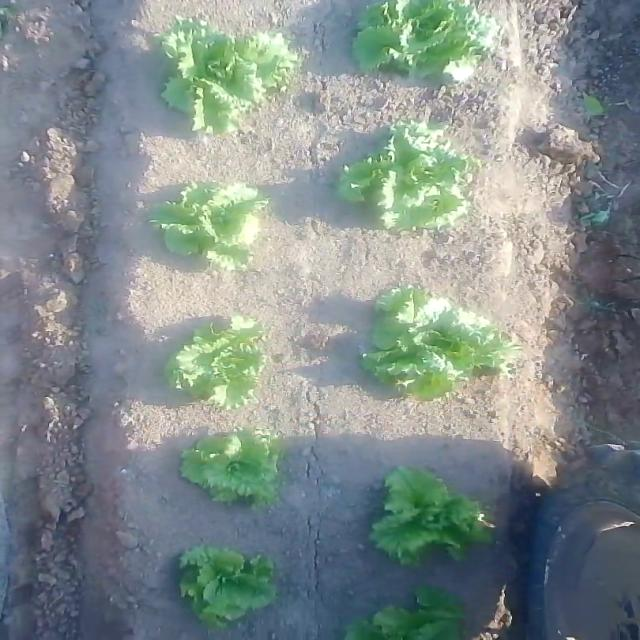Lettuce-Ready-to-Harvest: (362, 295, 512, 407), (190, 551, 275, 625)
